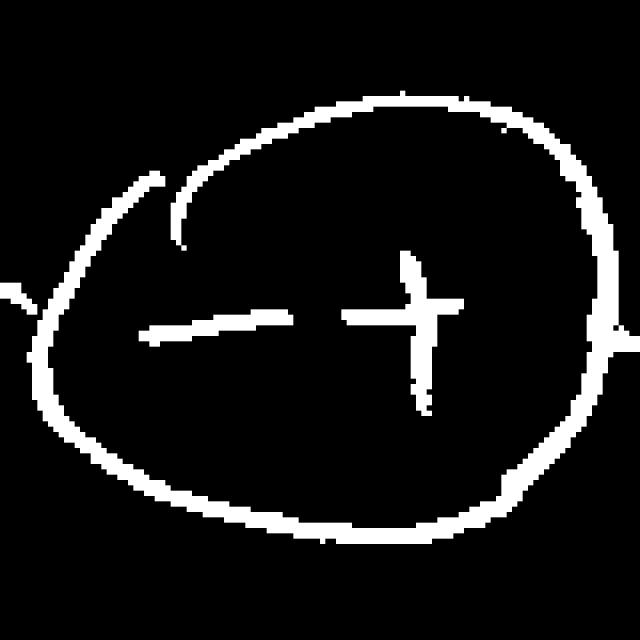voltage_source: (22, 81, 625, 562)
